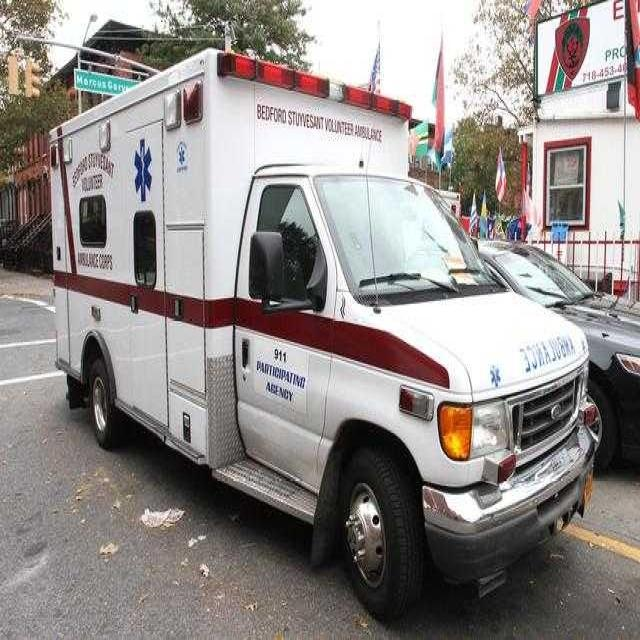ambulance: (31, 40, 578, 572)
